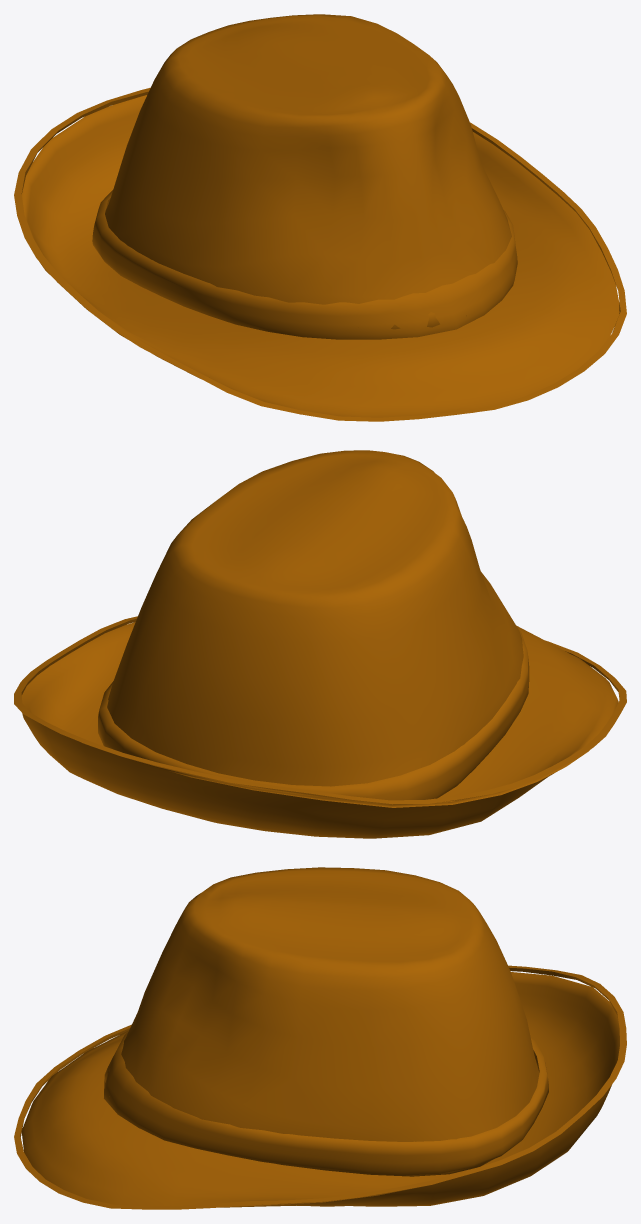
File: sombrero.fbx
3 views of the same model, one above another, from view 1: azimuth 30°, elevation 25°; view 2: azimuth 150°, elevation 25°; view 3: azimuth 270°, elevation 25° (orthographic). The views are drawn at different scales.
Parts seen in each view (by area): view 1: sombrero2_low; view 2: sombrero2_low; view 3: sombrero2_low.
Boxes of the visible parts, bbox=[...] form: sombrero2_low: bbox=[14, 14, 626, 421]; sombrero2_low: bbox=[14, 450, 626, 838]; sombrero2_low: bbox=[14, 867, 626, 1209].
Bounding box in the file's own units: 23.49 × 11.25 × 27.1.
